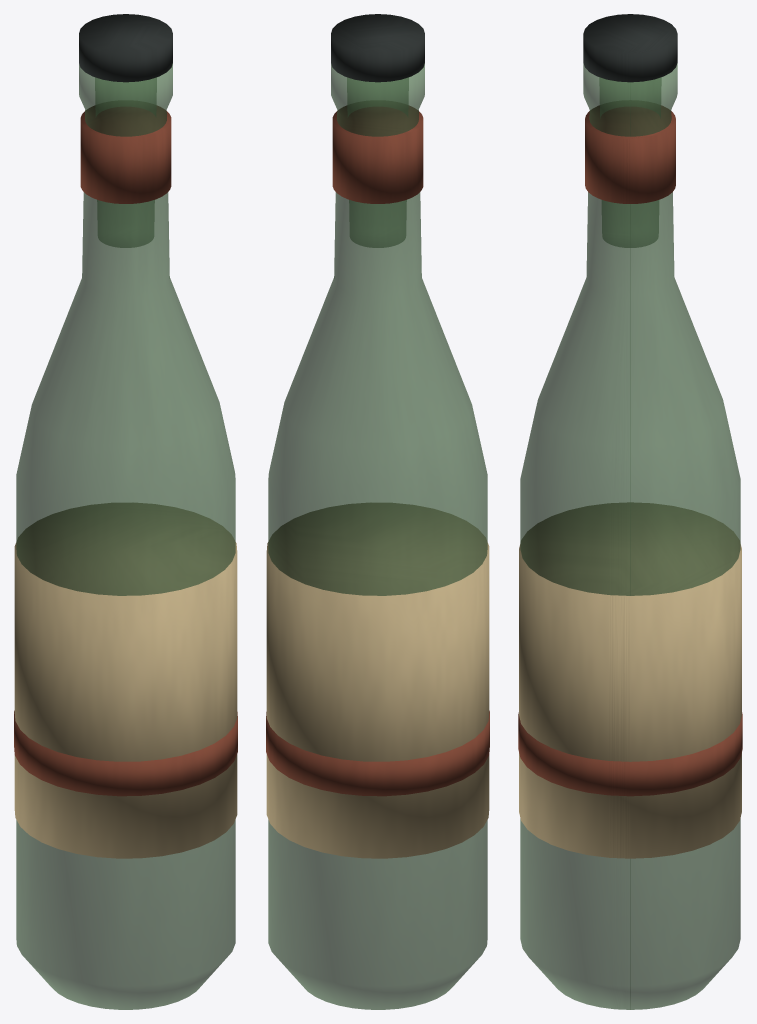
File: glass_bottle.glb
3 renders of one model, left to right at view 1: azimuth 30°, elevation 25°; view 2: azimuth 150°, elevation 25°; view 3: azimuth 270°, elevation 25°, orthographic.
Visible parts, largest first — view 1: glass_bottle_Mesh; view 2: glass_bottle_Mesh; view 3: glass_bottle_Mesh.
Part boxes in pixels (left/top/right/bottom): glass_bottle_Mesh: left=14, top=14, right=237, bottom=1009; glass_bottle_Mesh: left=266, top=14, right=489, bottom=1009; glass_bottle_Mesh: left=518, top=14, right=742, bottom=1009.
Size of the model in its own units: 0.0714 by 0.331 by 0.0714.
4 materials, 4 textured.
